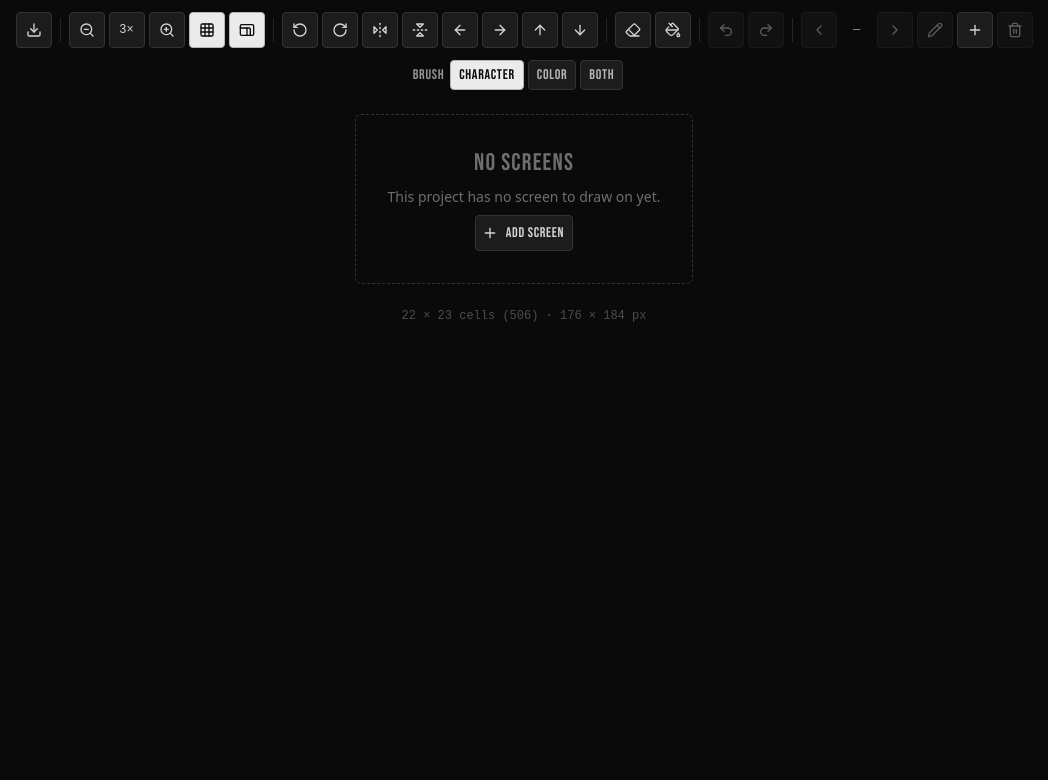
it: ScreenPanel disabled and empty states › offers a screen when the project has none
This screenshot has width=1048, height=780.
Click the button named "Add Screen" at (974, 30), box top-left (956, 12), bottom-right (992, 48)
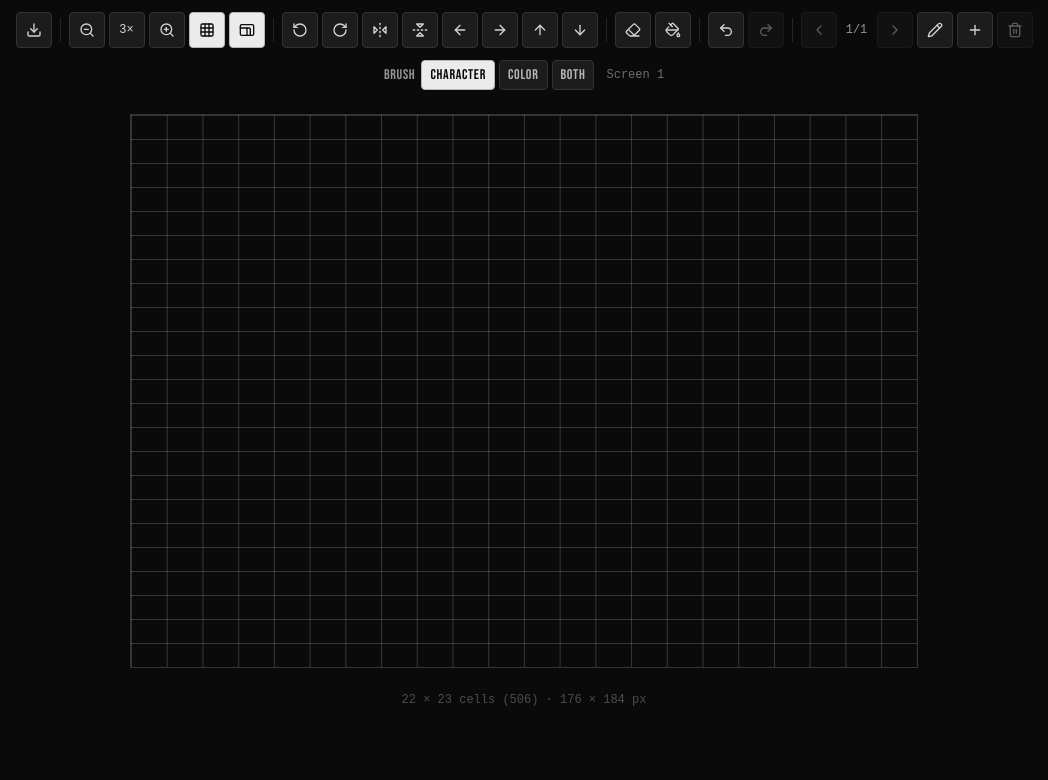
Expected: the drawing named "Screen editor — brush: Character. Places the selected charac" is shown, top-left (131, 115), bottom-right (917, 667)
